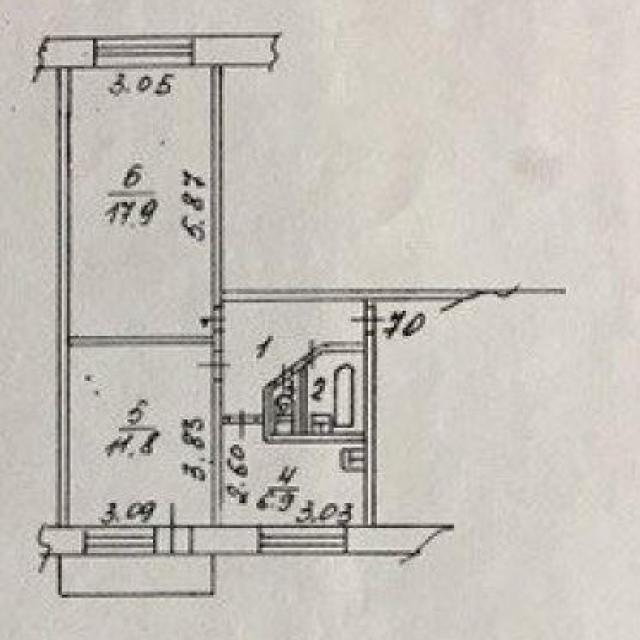Bathrooms: (308, 353, 364, 435), (272, 370, 299, 434)
Corridors: (223, 303, 363, 412), (60, 554, 214, 595)
Doors: (155, 500, 191, 555), (194, 346, 235, 382), (349, 304, 387, 335), (226, 411, 257, 443), (270, 358, 295, 395), (302, 333, 325, 373), (200, 304, 227, 331)
LBwalls: (348, 525, 456, 570), (196, 32, 284, 77), (29, 36, 94, 87), (33, 525, 83, 577), (189, 526, 258, 555)
Offices: (72, 69, 210, 334), (73, 347, 209, 525), (224, 424, 363, 525)
Walls: (209, 66, 569, 317), (55, 68, 224, 527), (263, 334, 377, 526), (210, 380, 233, 526), (293, 354, 307, 435)
Windows: (92, 35, 196, 67), (258, 525, 346, 555), (84, 526, 155, 555)
